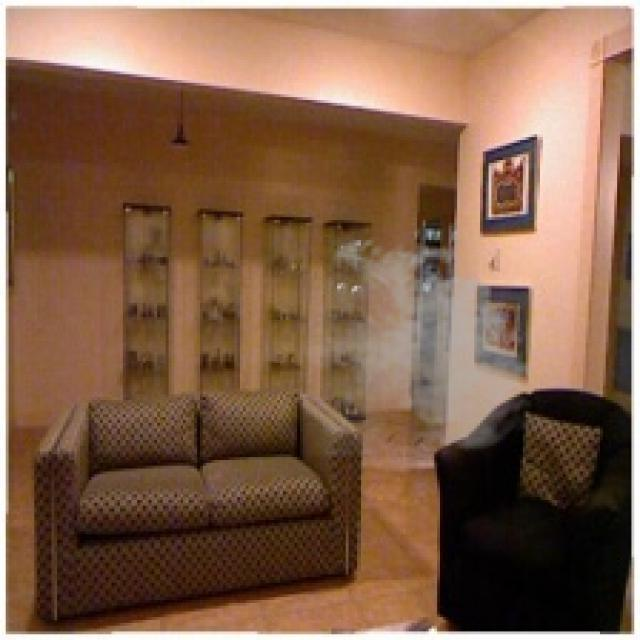Smoke: (306, 232, 543, 457)
